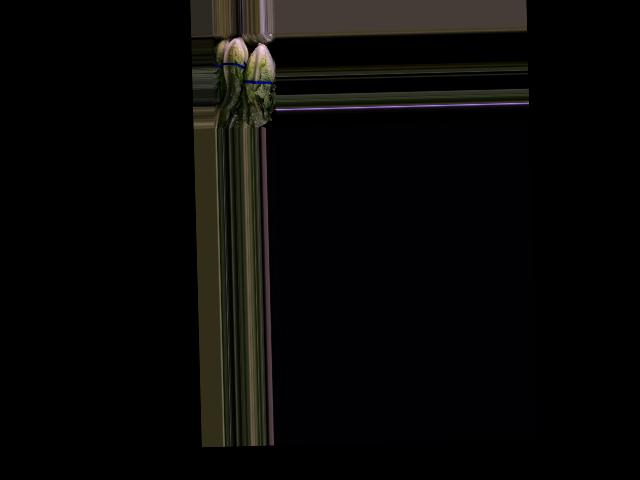lettuce: (216, 36, 250, 112)
